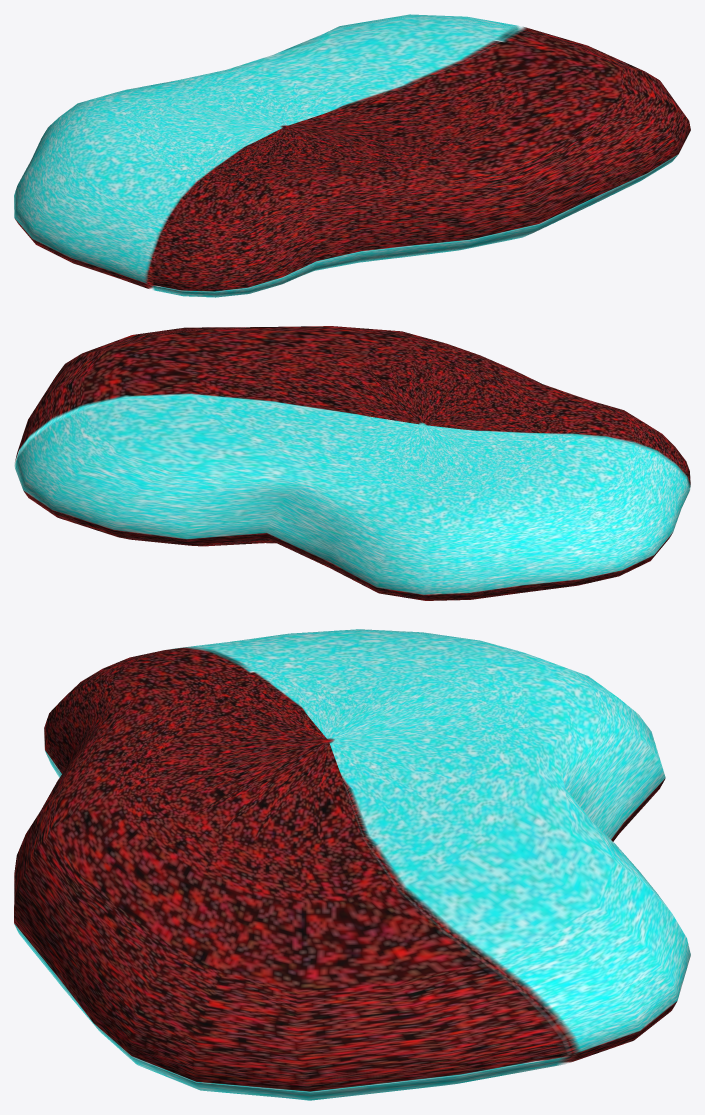
The picture shows the model from 3 angles, top to bottom: view 1: azimuth 30°, elevation 25°; view 2: azimuth 150°, elevation 25°; view 3: azimuth 270°, elevation 25°; orthographic projection. The views are drawn at different scales.
Visible parts, largest first — view 1: SM_VFX_LavaGlobC_LOD0; view 2: SM_VFX_LavaGlobC_LOD0; view 3: SM_VFX_LavaGlobC_LOD0.
Boxes of the visible parts, x1=… form: SM_VFX_LavaGlobC_LOD0: x1=14, y1=14, x2=690, y2=297; SM_VFX_LavaGlobC_LOD0: x1=14, y1=326, x2=690, y2=600; SM_VFX_LavaGlobC_LOD0: x1=14, y1=629, x2=690, y2=1100.
Bounding box in the file's own units: 15.59 × 1.88 × 10.2.
1 material, 1 textured.
